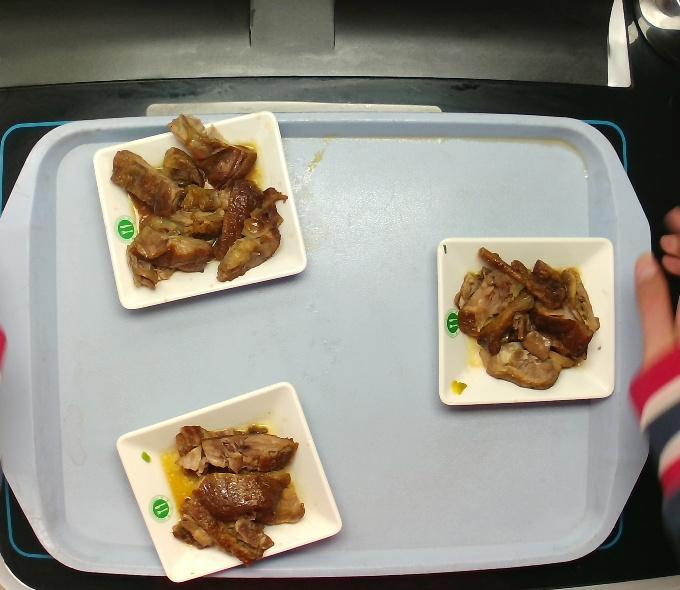wcq-YaRou: (106, 112, 289, 294), (147, 406, 315, 571), (443, 242, 606, 395)
